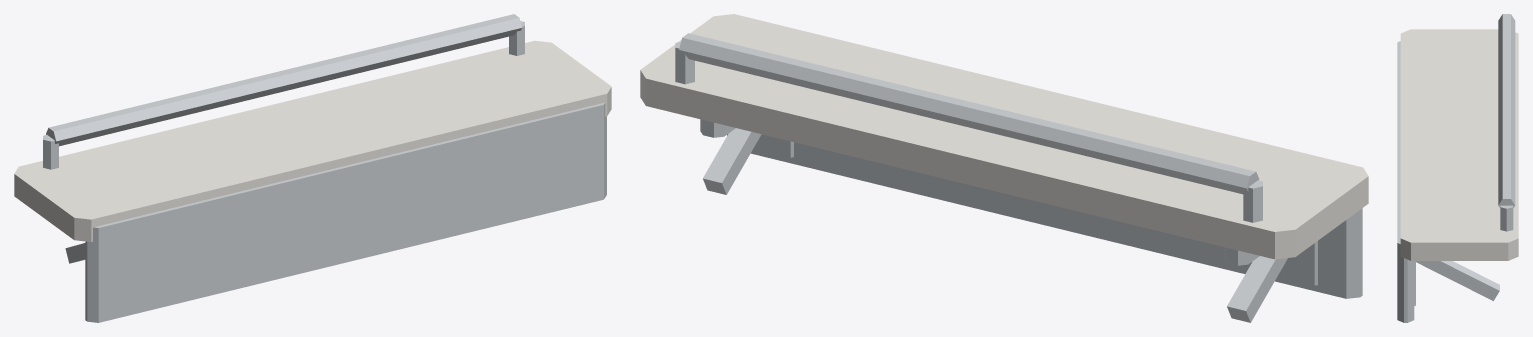
The model's file is SM_LPI_Bath_Shelf_01.fbx.
The picture shows the model from 3 angles, left to right: view 1: azimuth 30°, elevation 25°; view 2: azimuth 150°, elevation 25°; view 3: azimuth 270°, elevation 25°; orthographic projection. The views are drawn at different scales.
Visible parts, largest first — view 1: SM_LPI_Bath_Shelf_01; view 2: SM_LPI_Bath_Shelf_01; view 3: SM_LPI_Bath_Shelf_01.
Boxes of the visible parts, left/top/right/bottom form: SM_LPI_Bath_Shelf_01: left=14, top=14, right=611, bottom=322; SM_LPI_Bath_Shelf_01: left=640, top=14, right=1368, bottom=322; SM_LPI_Bath_Shelf_01: left=1397, top=14, right=1518, bottom=322.
Bounding box in the file's own units: 0.6 × 0.1487 × 0.144.
